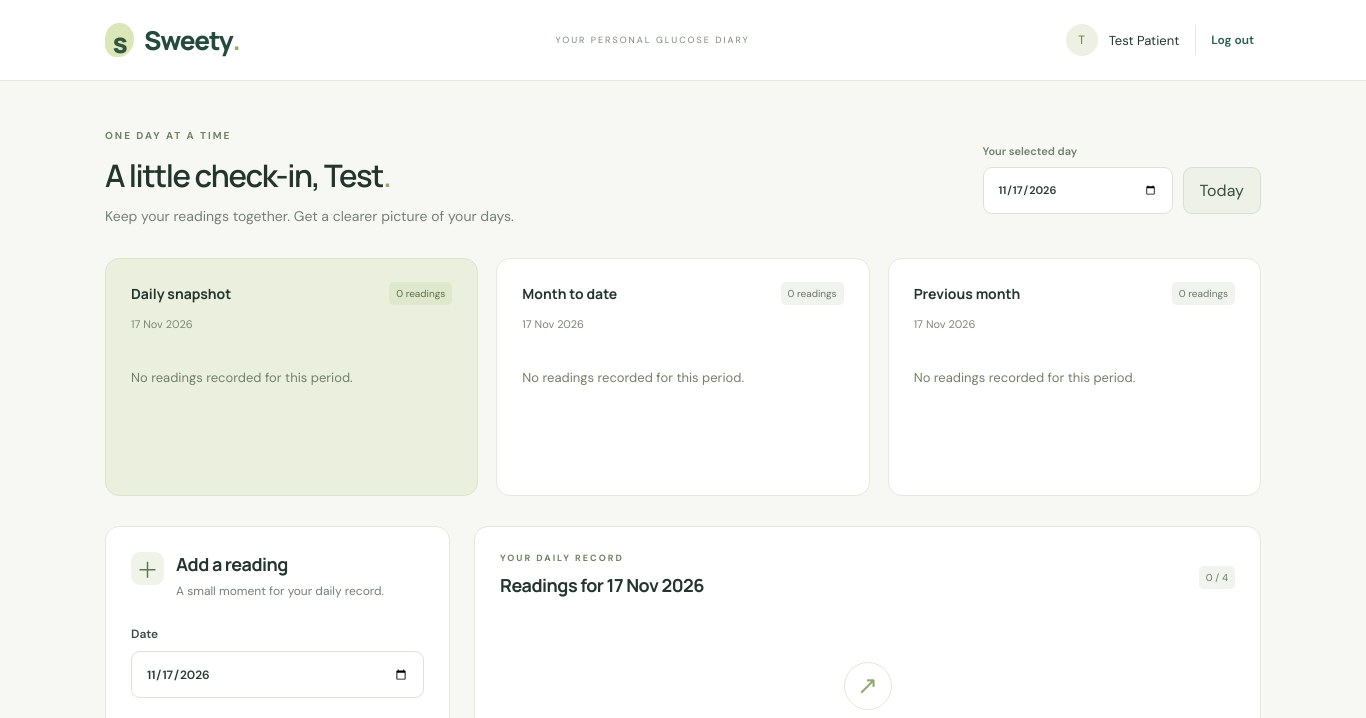
it: delete confirmation can be cancelled without sending DELETE
Check: the heading "A little check-in, Test." is shown, box [105, 154, 390, 196]
Type "2026-11-15" into the date field named "Selected report date" at (1078, 190), box [983, 167, 1173, 214]
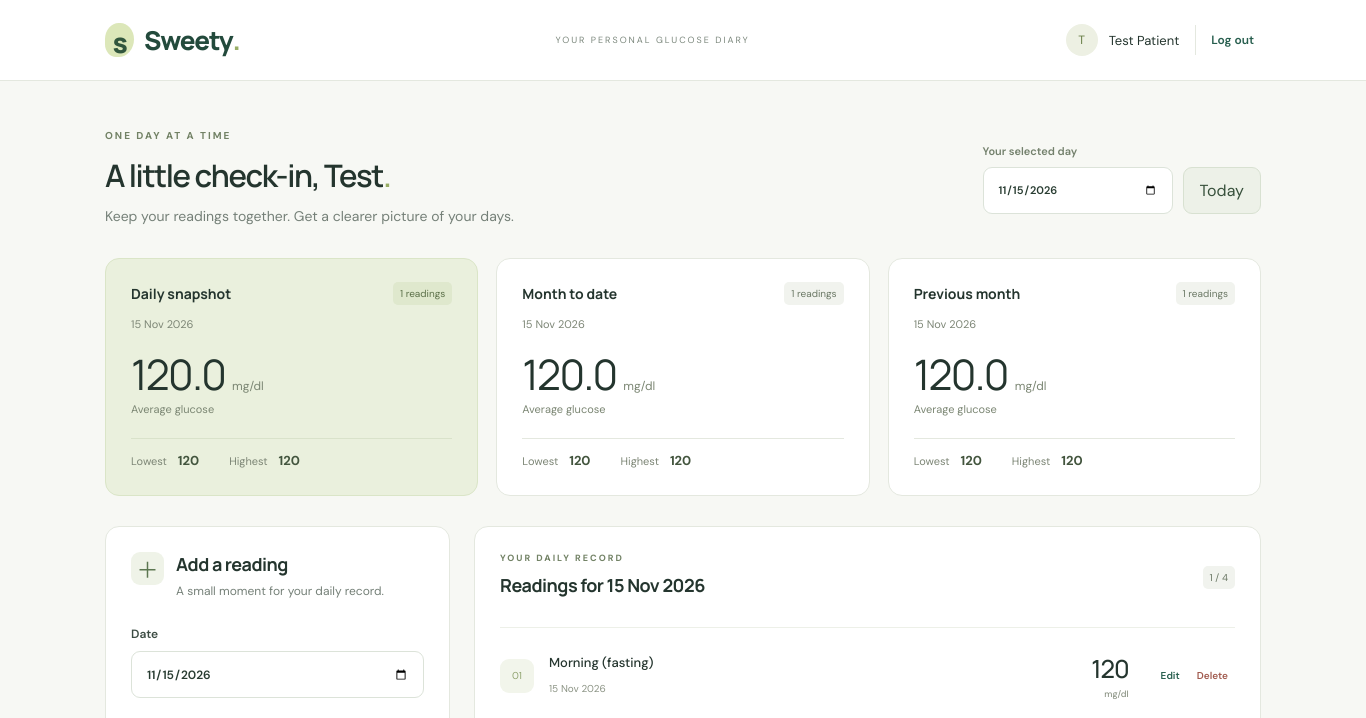
Click the button with aria-label "Delete Morning (fasting) reading" at (1212, 676), box [1190, 662, 1235, 689]
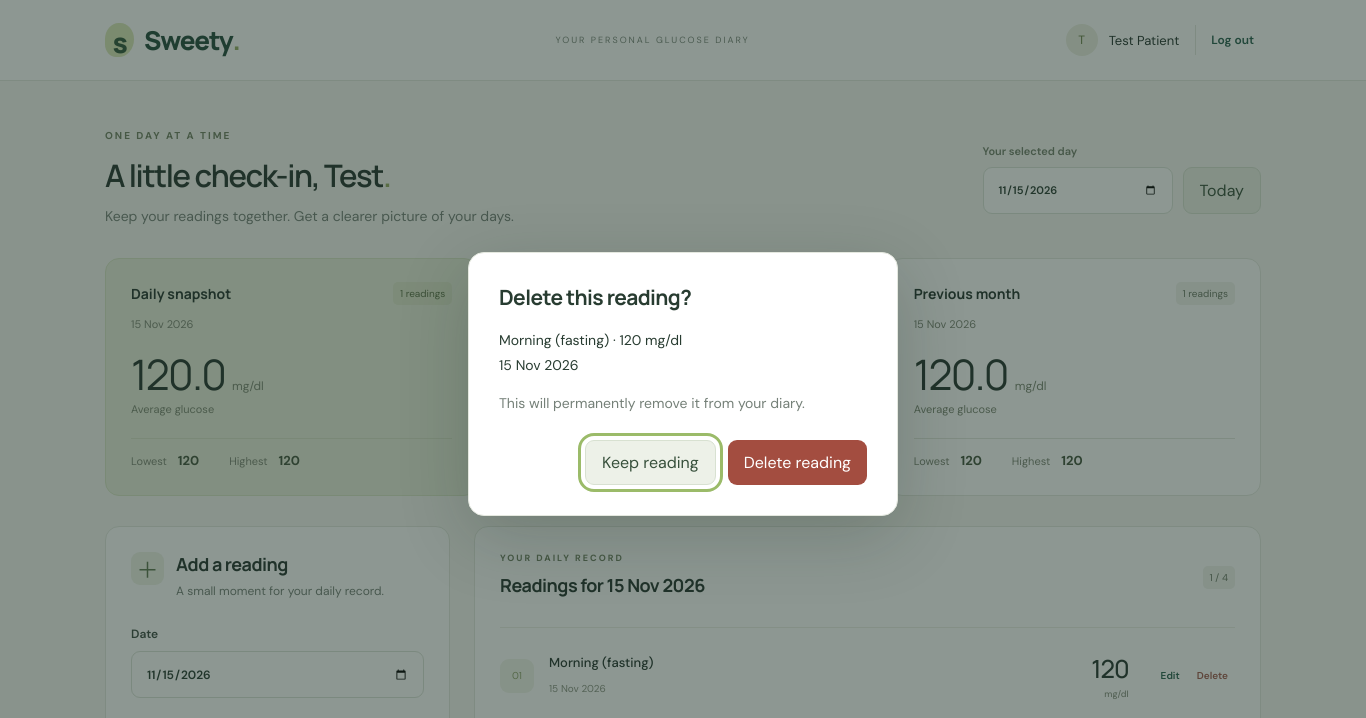
Check: the dialog is shown, box [468, 252, 898, 516]
Click the button "Keep reading" at (650, 463), box [585, 440, 716, 485]
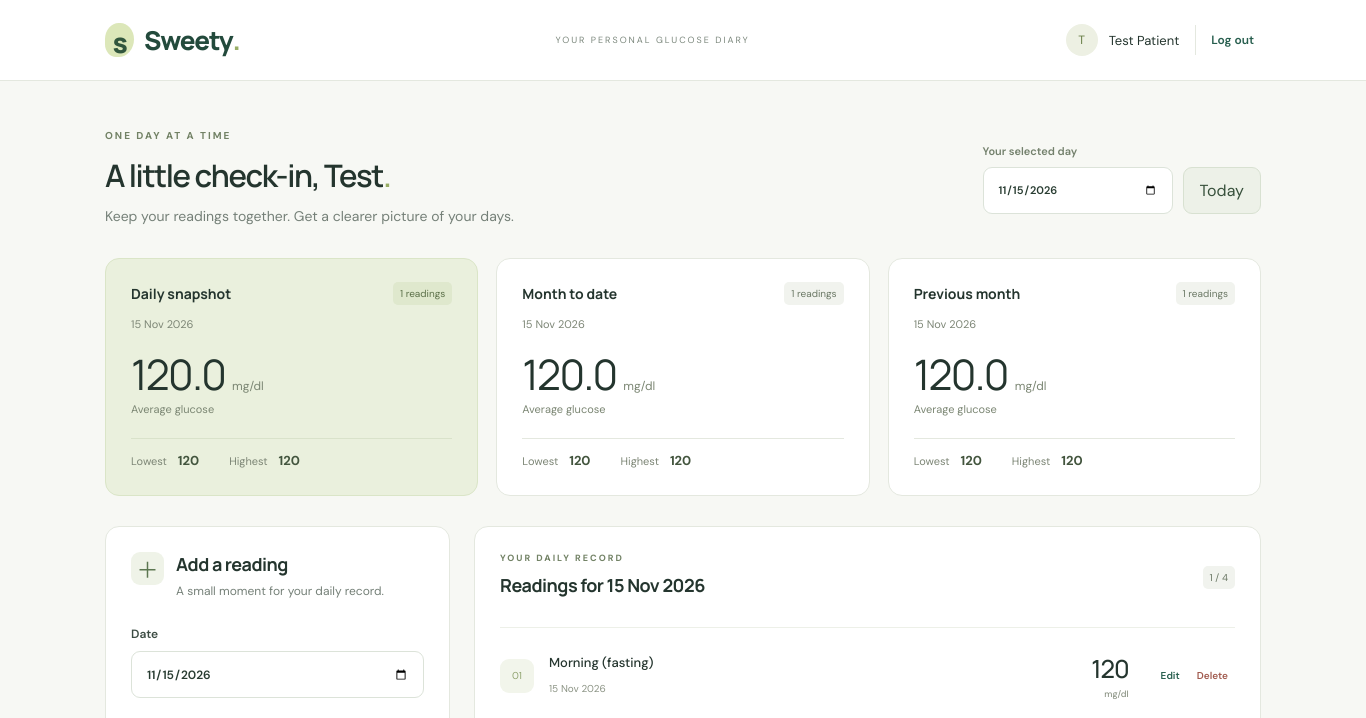
Check: the dialog is gone
